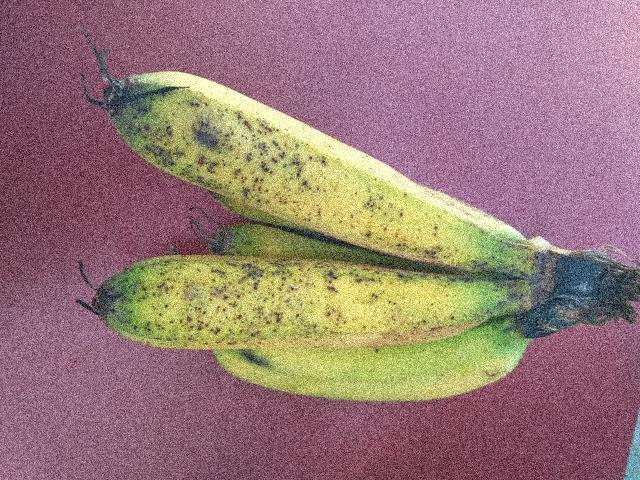ripe: (107, 63, 504, 251), (84, 224, 484, 340)
